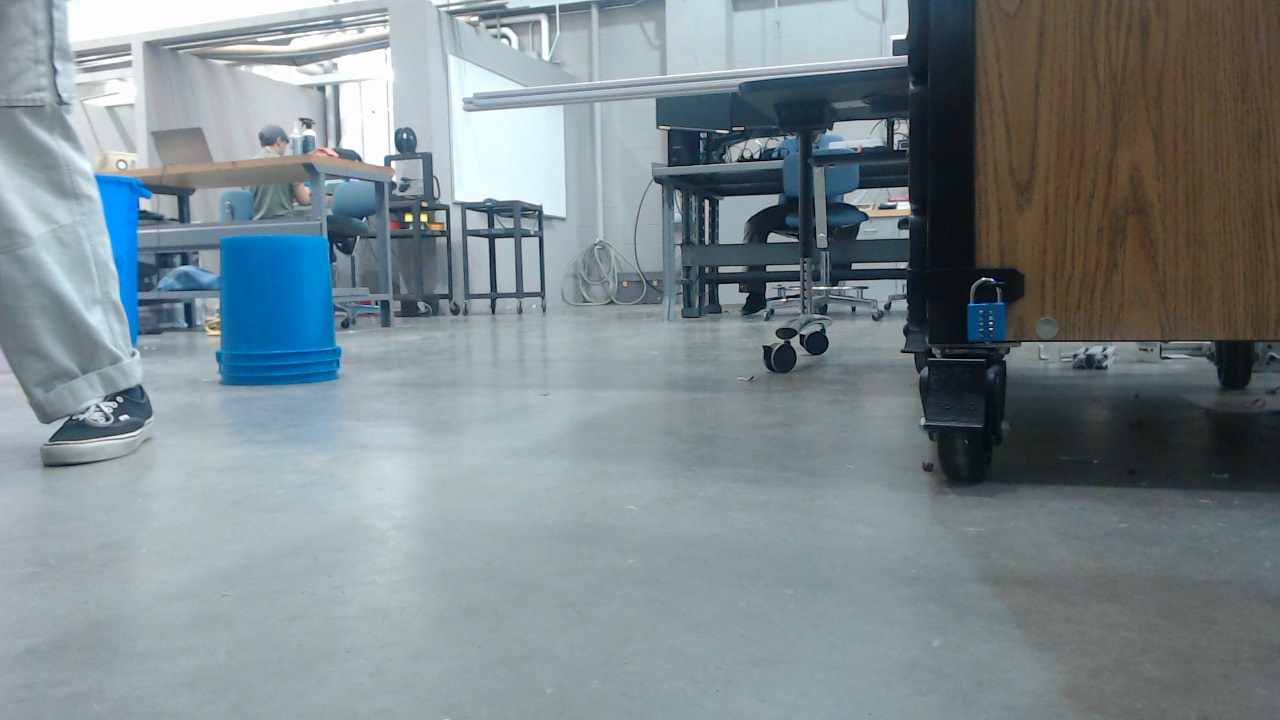blue_bucket: (222, 241, 345, 395)
